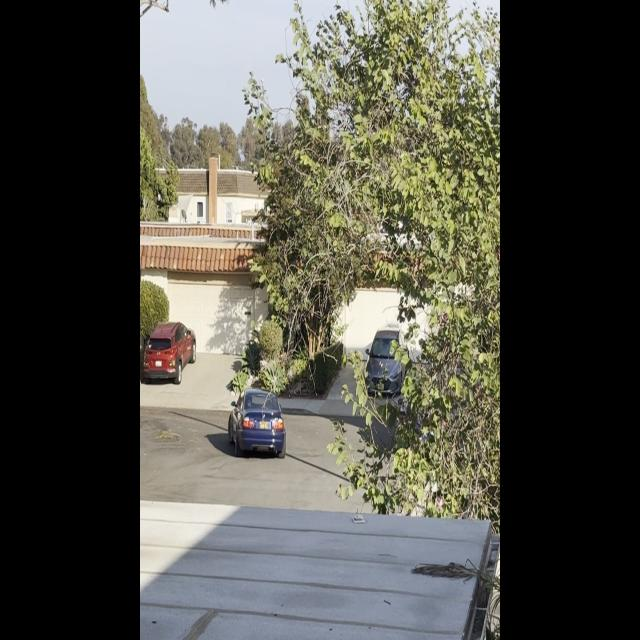Carbeetle: (223, 382, 290, 462)
Civilian: (140, 318, 199, 383), (363, 320, 409, 403)
